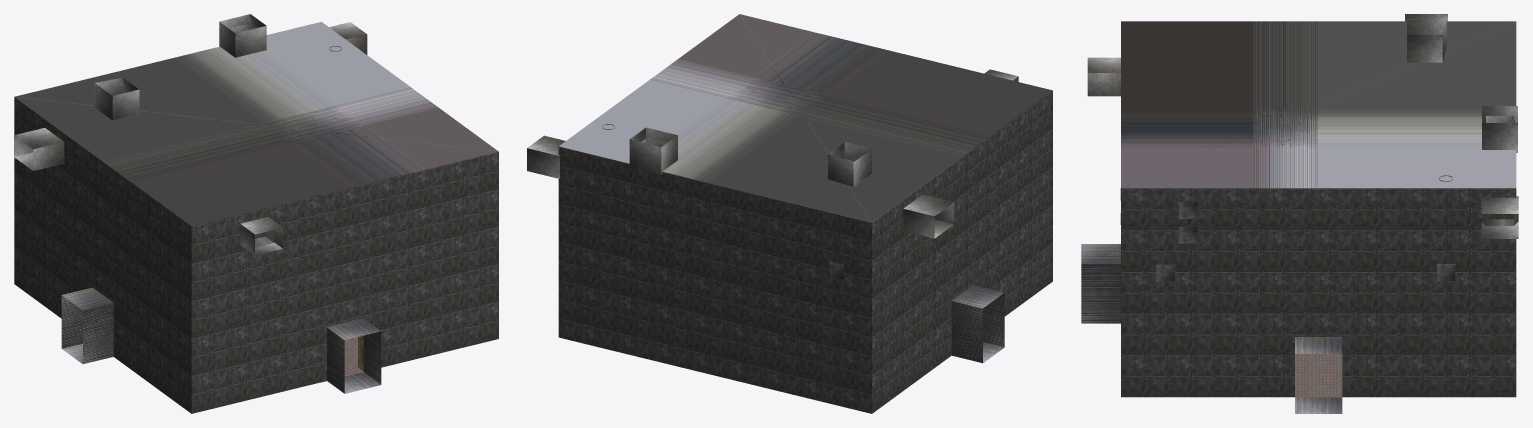
File: room_2.fbx
The picture shows the model from 3 angles, left to right: view 1: azimuth 30°, elevation 25°; view 2: azimuth 150°, elevation 25°; view 3: azimuth 270°, elevation 25°; orthographic projection. The views are drawn at different scales.
Visible parts, largest first — view 1: Plane.002, Plane.004, Plane.001, Plane.003, Plane.006, Plane; view 2: Plane.002, Plane.004, Plane.001, Plane.003; view 3: Plane.002, Plane.004, Plane.001, Plane.006, Plane, Plane.005.
Boxes of the visible parts, <box> form: Plane.002: <box>14,97,498,413</box>; Plane.004: <box>14,22,498,226</box>; Plane.001: <box>14,14,367,255</box>; Plane.003: <box>61,287,113,364</box>; Plane.006: <box>327,318,381,393</box>; Plane: <box>103,295,363,376</box>; Plane.002: <box>558,90,1052,413</box>; Plane.004: <box>559,14,1052,222</box>; Plane.001: <box>527,69,1018,238</box>; Plane.003: <box>951,285,1004,363</box>; Plane.002: <box>1121,188,1516,397</box>; Plane.004: <box>1121,21,1516,188</box>; Plane.001: <box>1087,14,1518,238</box>; Plane.006: <box>1081,244,1120,323</box>; Plane: <box>1295,337,1342,397</box>; Plane.005: <box>1295,337,1342,413</box>.
Bounding box in the file's own units: 1201 × 661 × 1106.
12 materials, 12 textured.
